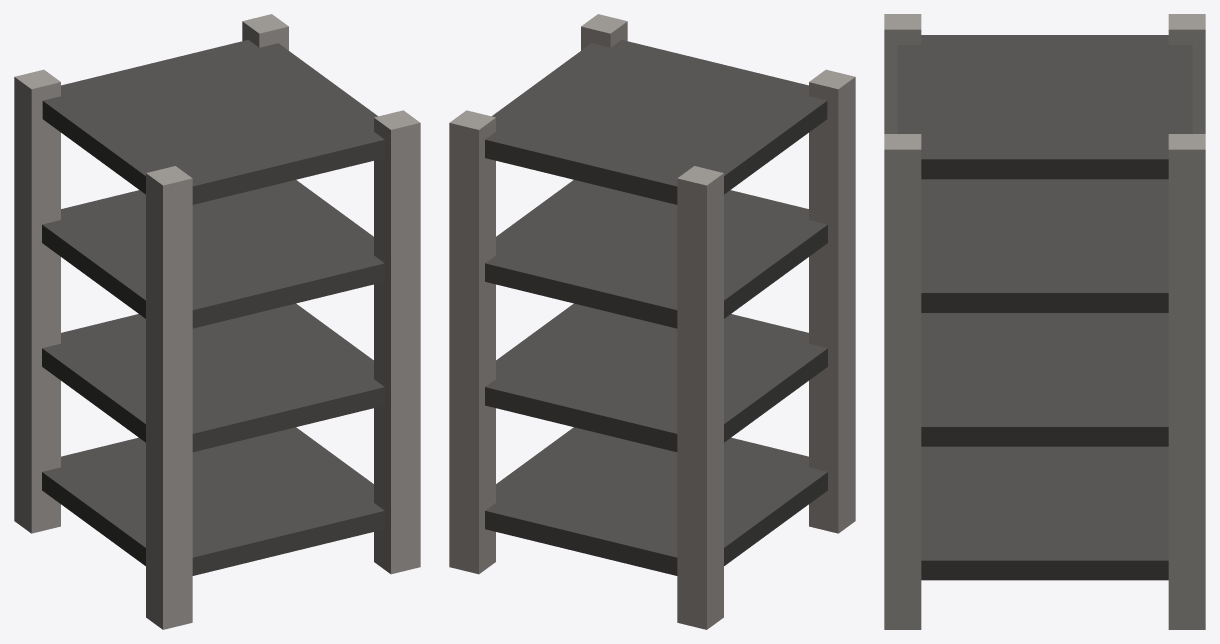
The model's file is SM_Prop_ServerRack_modified_no_server.fbx.
3 views of the same model, side by side, from view 1: azimuth 30°, elevation 25°; view 2: azimuth 150°, elevation 25°; view 3: azimuth 270°, elevation 25° (orthographic). The views are drawn at different scales.
Parts seen in each view (by area): view 1: SM_Prop_ServerRack_modified_no_server; view 2: SM_Prop_ServerRack_modified_no_server; view 3: SM_Prop_ServerRack_modified_no_server.
Boxes of the visible parts, x1,y1,x2,y2 form: SM_Prop_ServerRack_modified_no_server: [14, 14, 420, 629]; SM_Prop_ServerRack_modified_no_server: [449, 14, 855, 629]; SM_Prop_ServerRack_modified_no_server: [884, 14, 1205, 629].
Bounding box in the file's own units: 109 × 180 × 109.
Materials: 1 (1 with a texture image).
